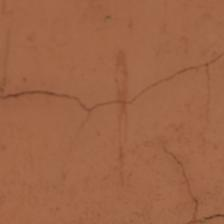Crack: (3, 54, 222, 118), (165, 145, 223, 221)
